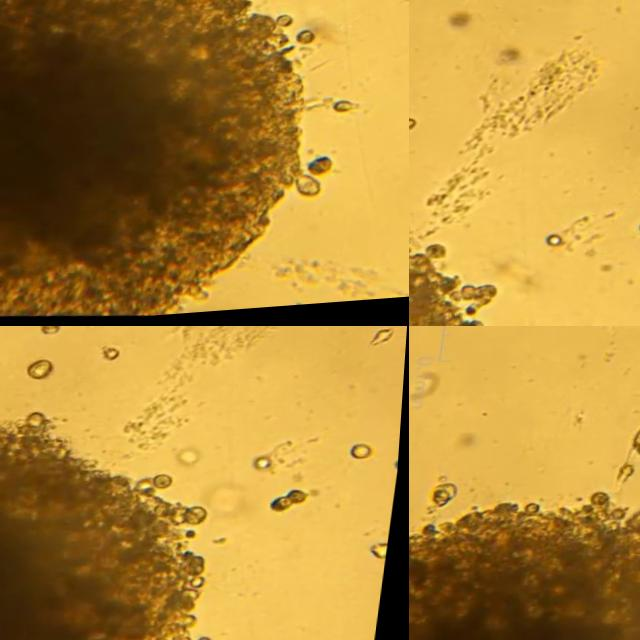cell: (275, 496, 312, 517), (433, 484, 457, 509), (371, 336, 397, 354), (32, 363, 53, 383), (180, 454, 202, 473), (314, 164, 340, 180), (354, 450, 376, 467), (450, 16, 472, 32), (620, 466, 637, 485), (301, 36, 321, 51), (43, 326, 63, 340), (105, 350, 123, 365), (342, 107, 362, 120), (374, 552, 390, 568), (258, 462, 276, 476), (282, 19, 299, 32), (550, 240, 568, 252), (409, 123, 419, 137)
tumor_mass: (0, 413, 212, 640), (409, 495, 640, 640)
